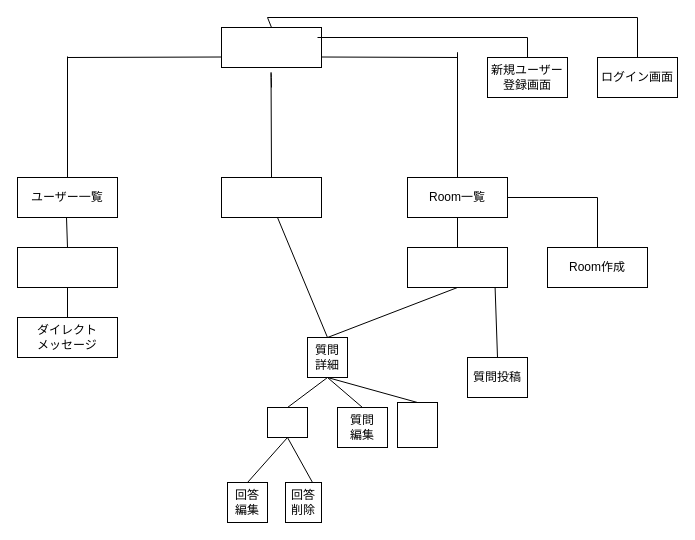
This 695x540 diagram has some shape labels left out. The centre of each missing label's shape, as x and y in pixels:
Room内 質問一覧: point (457, 267)
トップページ: point (271, 47)
ユーザー マイページ: point (67, 267)
回答: point (287, 422)
未解決質問一覧: point (271, 197)
質問 削除: point (417, 425)
